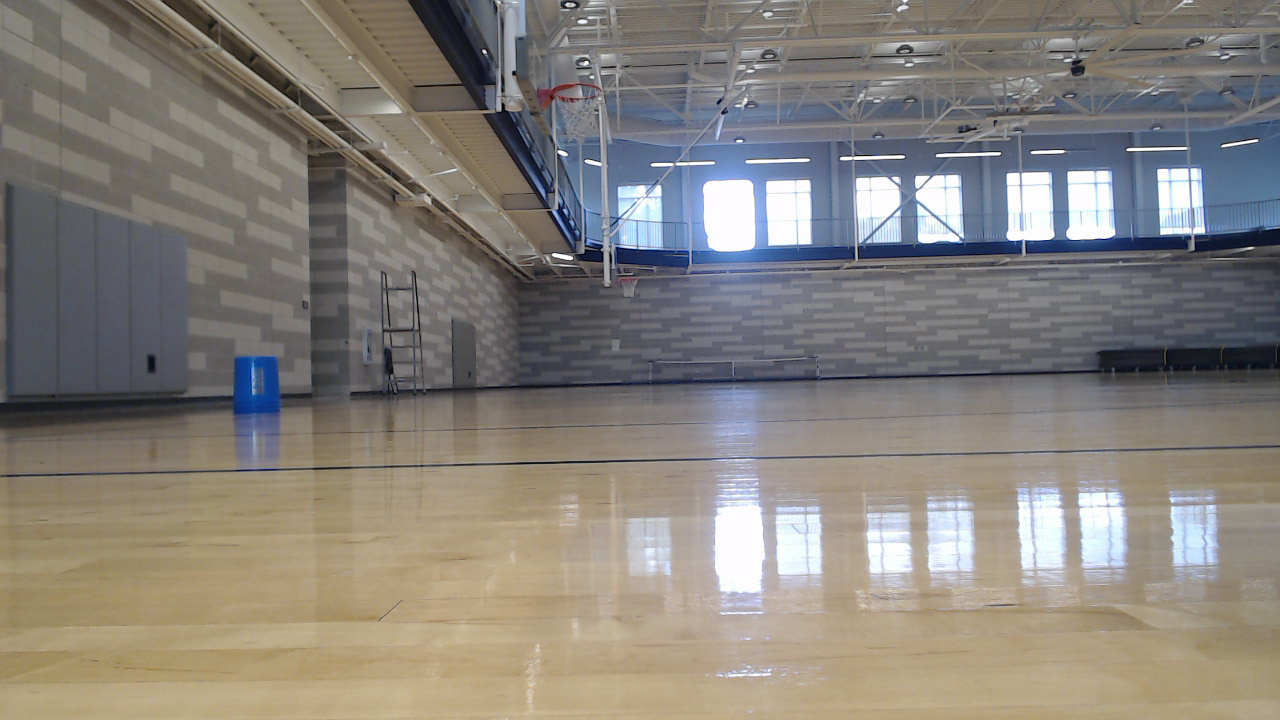blue_bucket: (237, 360, 285, 418)
